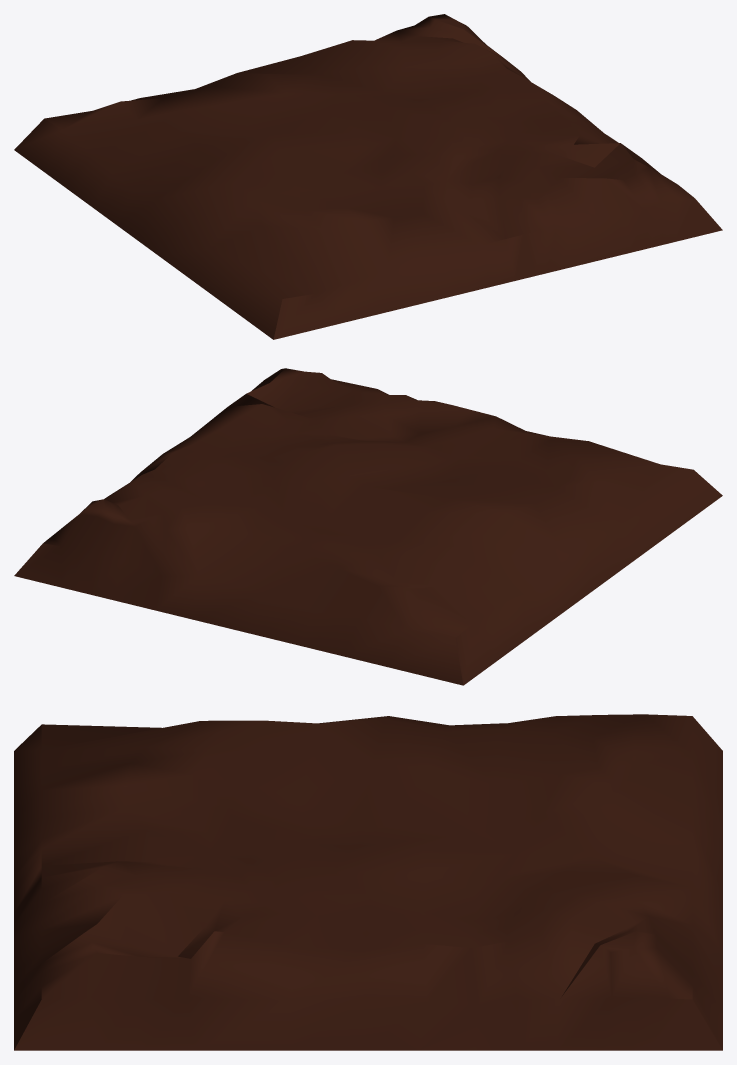
The model's file is Soil Test.fbx.
3 renders of one model, top to bottom at view 1: azimuth 30°, elevation 25°; view 2: azimuth 150°, elevation 25°; view 3: azimuth 270°, elevation 25°, orthographic. The views are drawn at different scales.
Visible parts, largest first — view 1: Soil_Test; view 2: Soil_Test; view 3: Soil_Test.
Boxes of the visible parts, x1,y1,x2,y2 form: Soil_Test: [14, 14, 722, 339]; Soil_Test: [14, 368, 722, 685]; Soil_Test: [14, 714, 722, 1050].
Bounding box in the file's own units: 100 × 13.17 × 100.
Materials: 1 (1 with a texture image).
